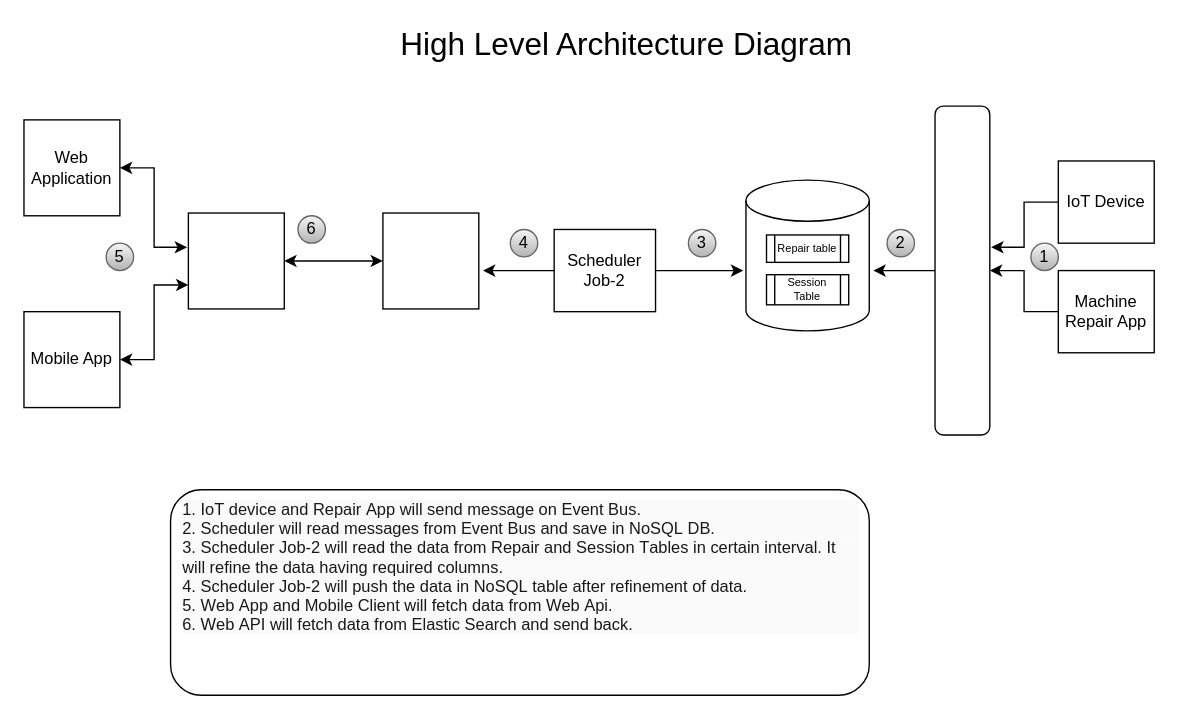
Some shapes in this 1178 by 719 pixel diagram are drawn without their labels. The shapes that lost their labels are listed below. From the top down, each one's box as (x1, y1, x2, y2) in pixels, then its label:
(187, 212, 284, 309): Web API
(382, 212, 479, 309): Refine Data (NoSQL)
(934, 105, 990, 435): Event Bus
